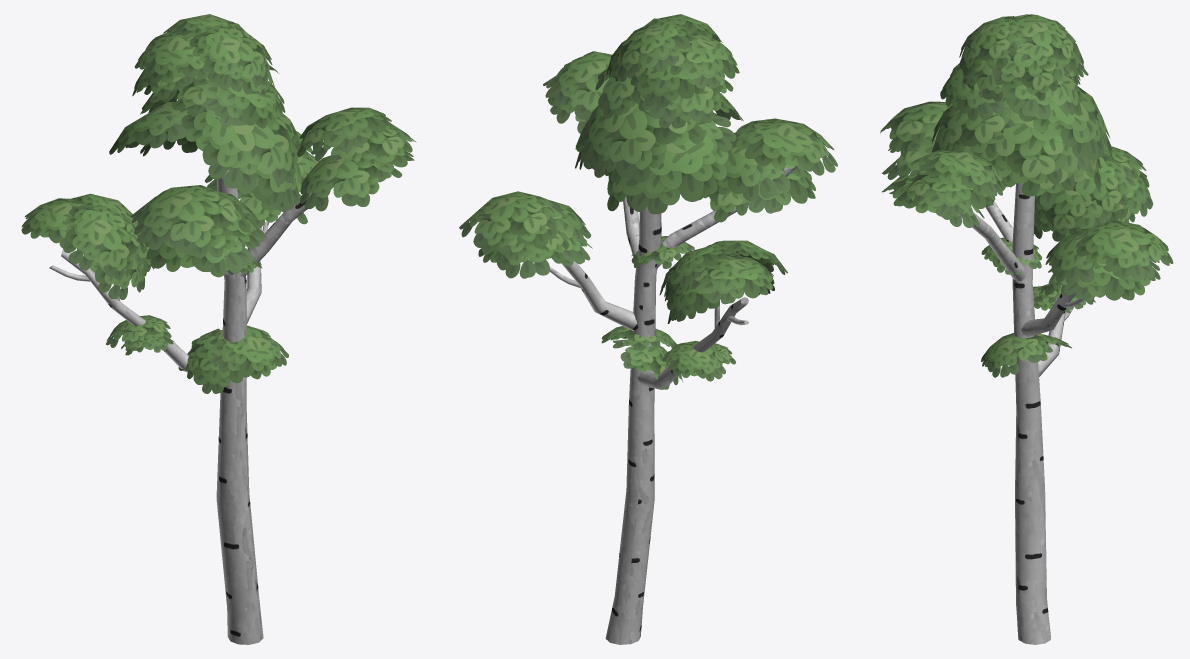
The model's file is Birch_2.gltf.
The picture shows the model from 3 angles, left to right: view 1: azimuth 30°, elevation 25°; view 2: azimuth 150°, elevation 25°; view 3: azimuth 270°, elevation 25°; orthographic projection. The views are drawn at different scales.
Visible parts, largest first — view 1: Birch_10; view 2: Birch_10; view 3: Birch_10.
Part boxes in pixels (box(x1,y1,x2,y2)): Birch_10: box(21, 14, 416, 644); Birch_10: box(459, 14, 837, 644); Birch_10: box(880, 14, 1173, 644).
Bounding box in the file's own units: 5.36 × 10.23 × 4.74.
2 materials, 2 textured.
